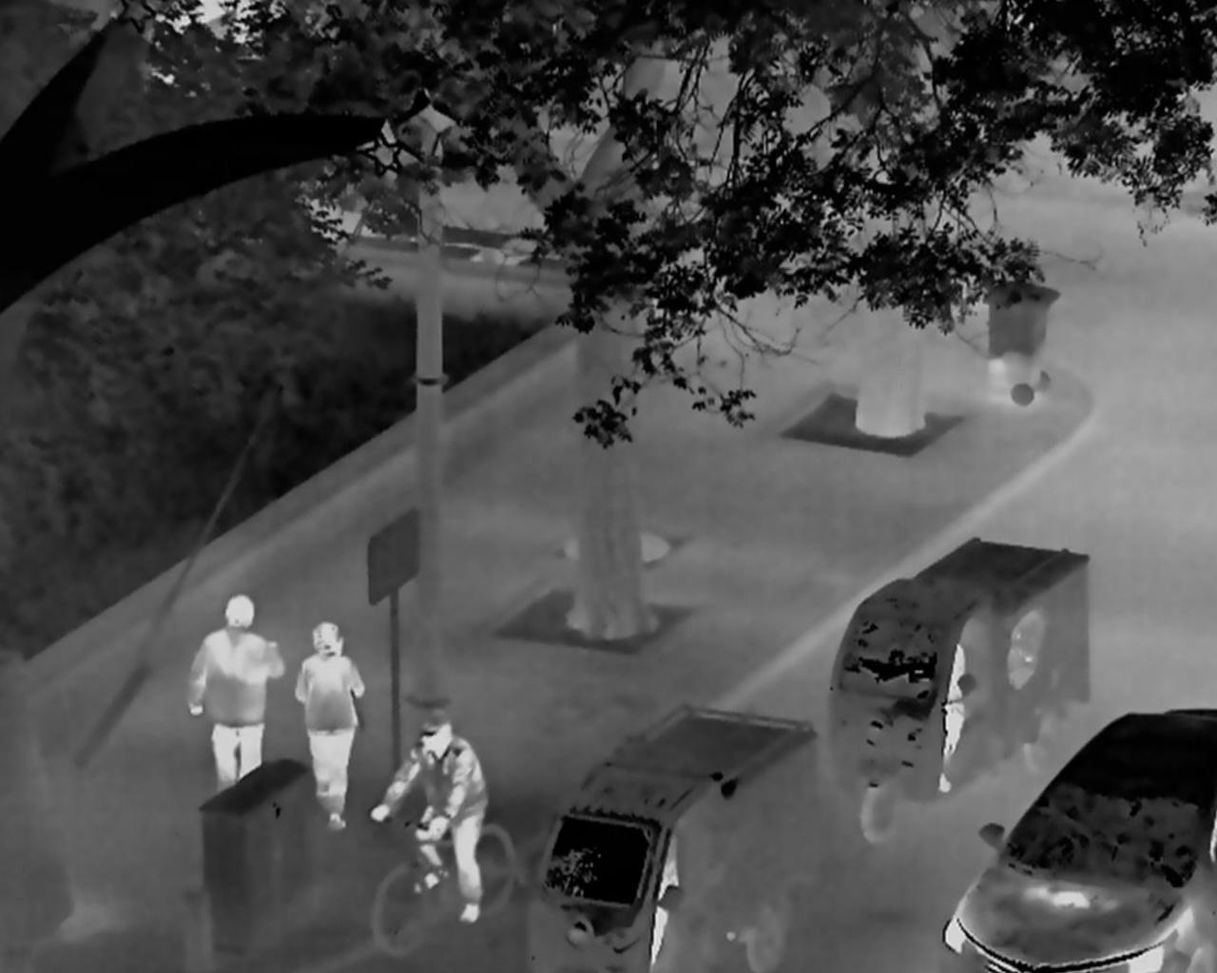person: (371, 710, 489, 925), (188, 595, 285, 792), (293, 620, 364, 830), (937, 641, 968, 792), (648, 830, 680, 967)
